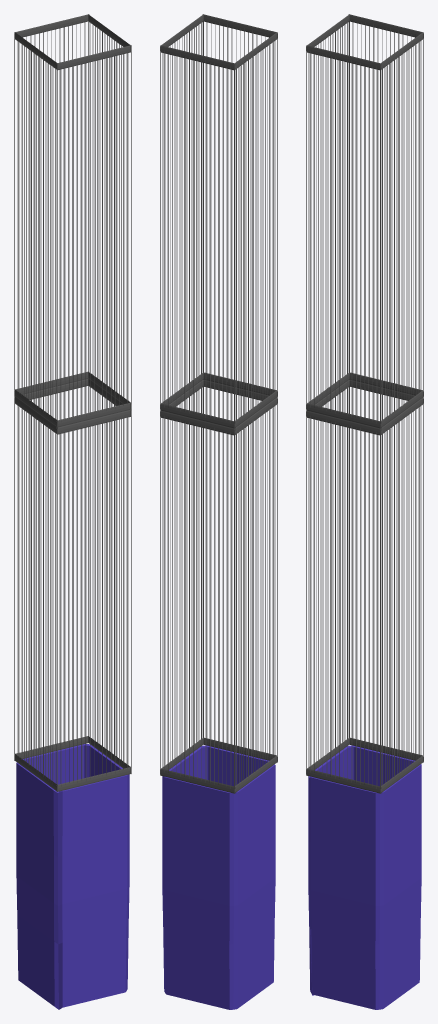
Rendered from Cage.fbx.
The picture shows the model from 3 angles, left to right: view 1: azimuth 30°, elevation 25°; view 2: azimuth 150°, elevation 25°; view 3: azimuth 330°, elevation 25°; orthographic projection.
Parts seen in each view (by area): view 1: Grid, Tray; view 2: Grid, Tray; view 3: Grid, Tray.
Boxes of the visible parts, left/top/right/bottom form: Grid: left=14, top=14, right=131, bottom=791; Tray: left=16, top=744, right=129, bottom=1009; Grid: left=160, top=14, right=277, bottom=793; Tray: left=162, top=745, right=275, bottom=1009; Grid: left=306, top=14, right=423, bottom=793; Tray: left=308, top=745, right=421, bottom=1009.
Size of the model in its own units: 109 by 1303 by 109.
